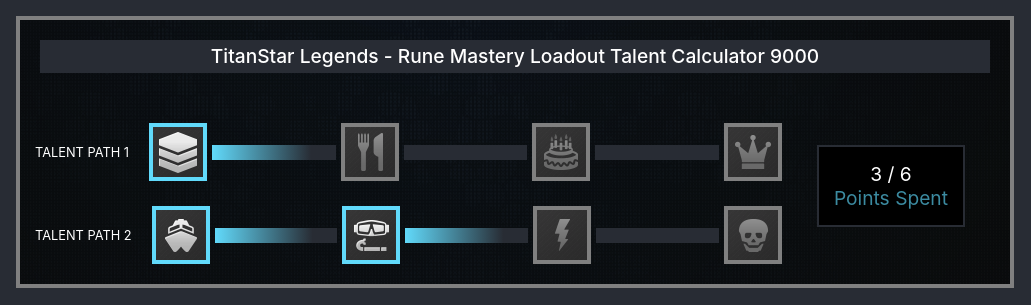
TalentTree › Mouse Events() › activate talent
Click the 7th button at [562, 235], box [533, 206, 591, 264]
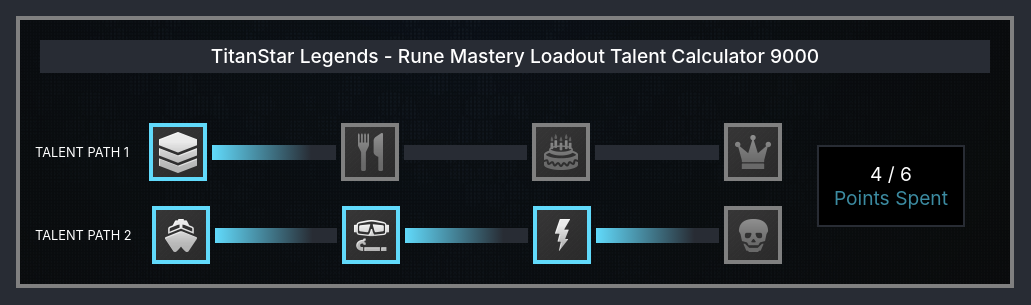
Expected: the text "4 / 6" is shown, [870, 162, 912, 186]
